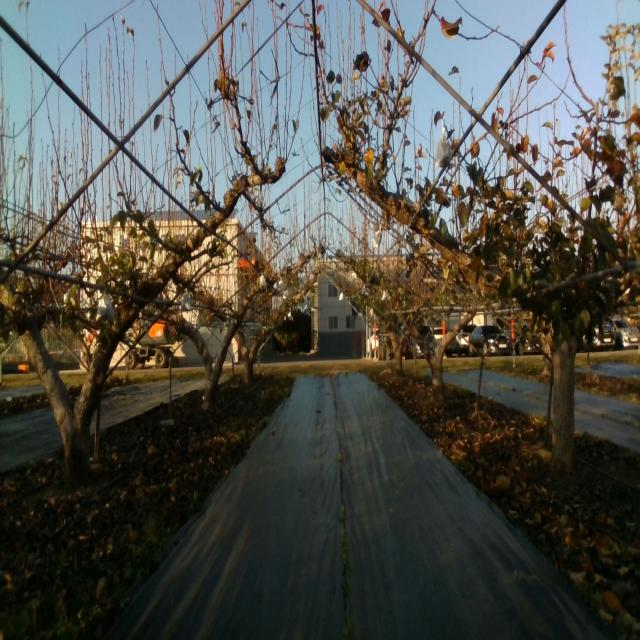pearbags: (95, 293, 115, 325), (434, 136, 452, 169), (181, 294, 192, 312)
